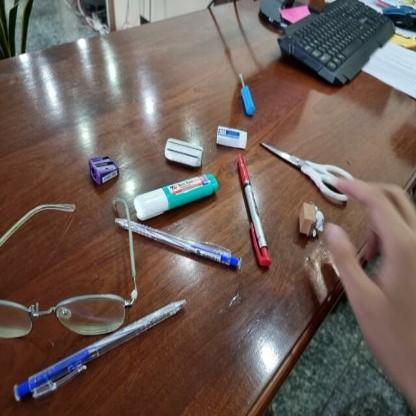not trash: (0, 294, 188, 413), (0, 192, 134, 336), (275, 2, 416, 91), (109, 213, 241, 278), (258, 136, 356, 206), (226, 154, 272, 274), (130, 171, 218, 217), (228, 68, 266, 122), (80, 152, 130, 188), (156, 136, 208, 167), (210, 126, 250, 151)
